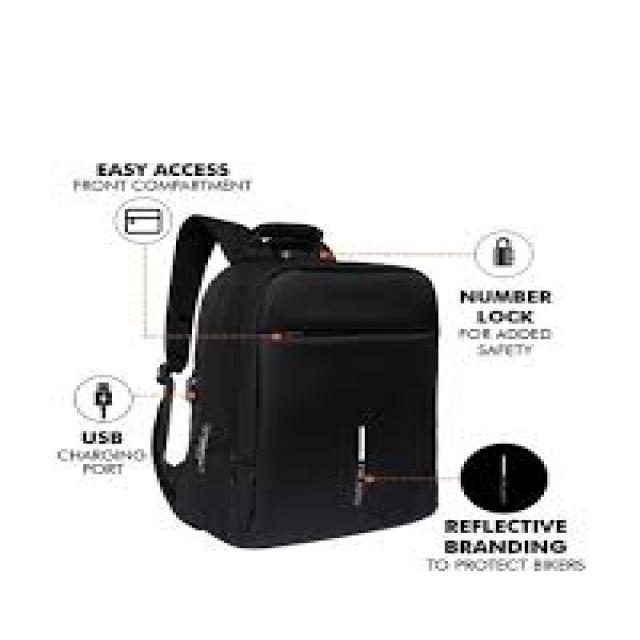backpack: (149, 213, 440, 549)
